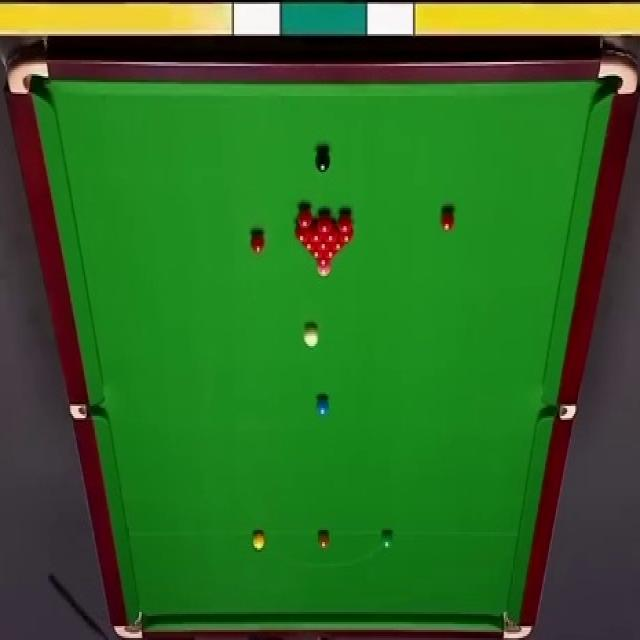pocket: (599, 50, 640, 99), (8, 56, 48, 98), (113, 609, 144, 640), (501, 609, 531, 640), (542, 403, 576, 422), (67, 406, 105, 420)
